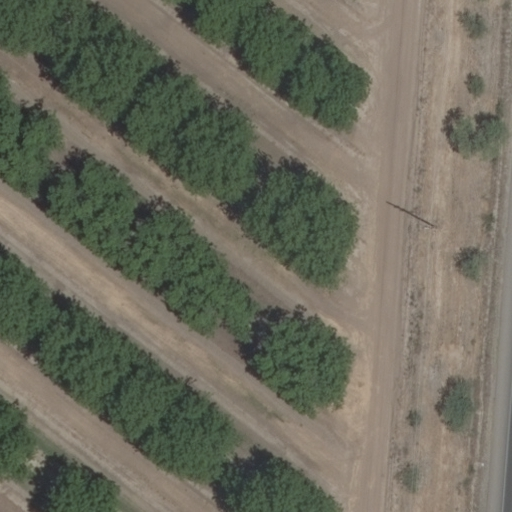DT: (429, 218, 447, 233)
